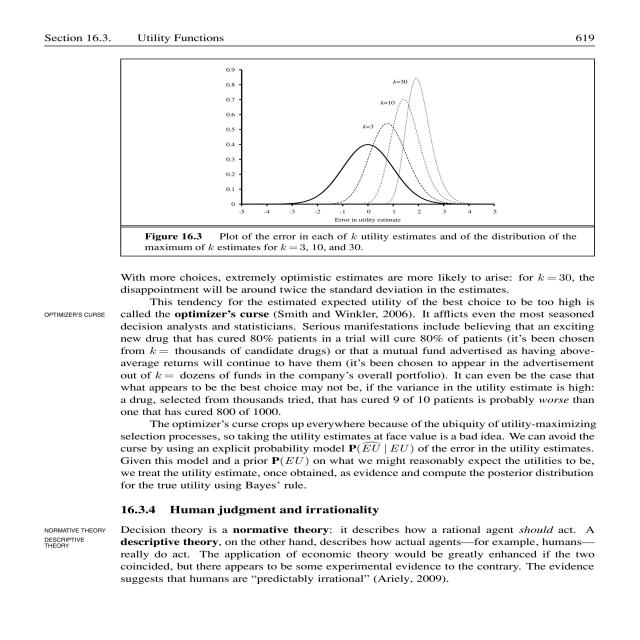diagram: (74, 50, 620, 260)
